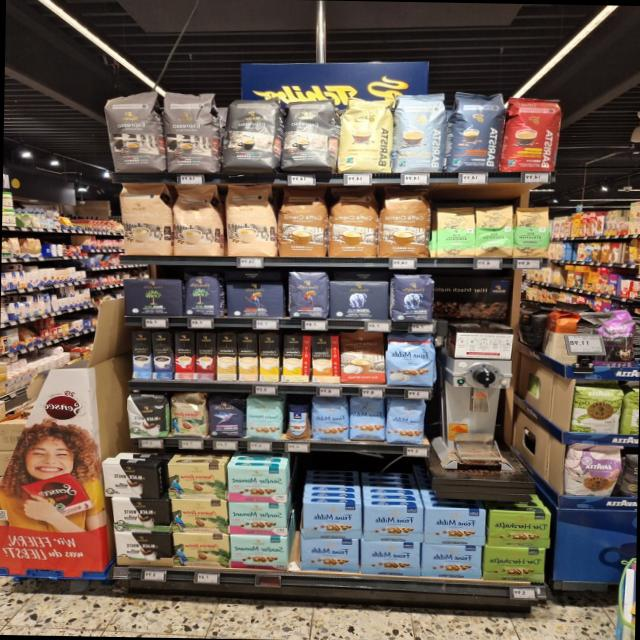AB Bohne: (389, 272, 435, 323)
AB Gemahlen: (328, 279, 390, 320)
Athiopien Bohne: (511, 204, 552, 259)
Athiopien Gemahlen: (433, 206, 477, 260), (474, 203, 514, 259)
BM Bohne: (182, 268, 224, 318), (125, 393, 169, 440)
BM Gemahlen: (121, 278, 184, 316)
BW Gemahlen: (101, 462, 161, 499), (113, 532, 174, 566), (111, 498, 170, 533)
Barista CB: (336, 97, 394, 173)
Barista CC: (391, 92, 445, 174)
Barista Espresso: (443, 89, 505, 174)
Barista Kolumbien: (500, 97, 561, 173)
C Fino Bohne: (207, 393, 245, 438)
CC Mild: (108, 183, 172, 255), (220, 183, 279, 259), (167, 183, 224, 258)
CC Vollmundig: (338, 330, 387, 385)
CC Vollmundig 36 Pads: (375, 188, 431, 258), (325, 187, 379, 258), (274, 186, 327, 258)
Colombia BB Bohne: (168, 392, 209, 437)
Colombia BB Gemahlen: (171, 532, 231, 568), (166, 464, 227, 499), (169, 498, 228, 533)
Espresso Aromatisch: (102, 91, 166, 173), (160, 91, 220, 175)
Espresso Kraftig: (220, 96, 283, 168), (278, 97, 335, 173)
FM 36 Pads: (384, 332, 434, 386)
FM Bohne: (384, 399, 427, 444), (311, 395, 349, 442), (348, 396, 385, 442)
FM Gemahlen: (424, 508, 485, 546), (362, 505, 424, 542), (359, 540, 420, 577), (301, 502, 360, 540), (422, 543, 481, 579), (299, 538, 359, 573)
FM Instant: (284, 400, 312, 439)
Herzhatfe Mundig: (487, 510, 550, 547), (482, 546, 544, 583)
LG Bohne: (285, 270, 329, 320)
LG Gemahlen: (223, 281, 286, 318)
SM Bohne: (244, 395, 287, 439)
SM Gemahlen: (226, 466, 287, 503), (228, 535, 288, 571), (227, 502, 287, 535)
Simo CCMild: (282, 334, 309, 382)
Simo CCMild bigpack: (257, 333, 279, 382)
Simo CCVollmundig: (310, 335, 340, 384)
Simo Decaff: (237, 334, 258, 381), (217, 332, 236, 380)
Simo Es Brazil: (174, 331, 195, 379)
Simo Es Caramel: (195, 333, 216, 380)
Simo Es Kraft: (150, 331, 173, 379)
Simo Es Vanilla: (131, 331, 151, 378)
